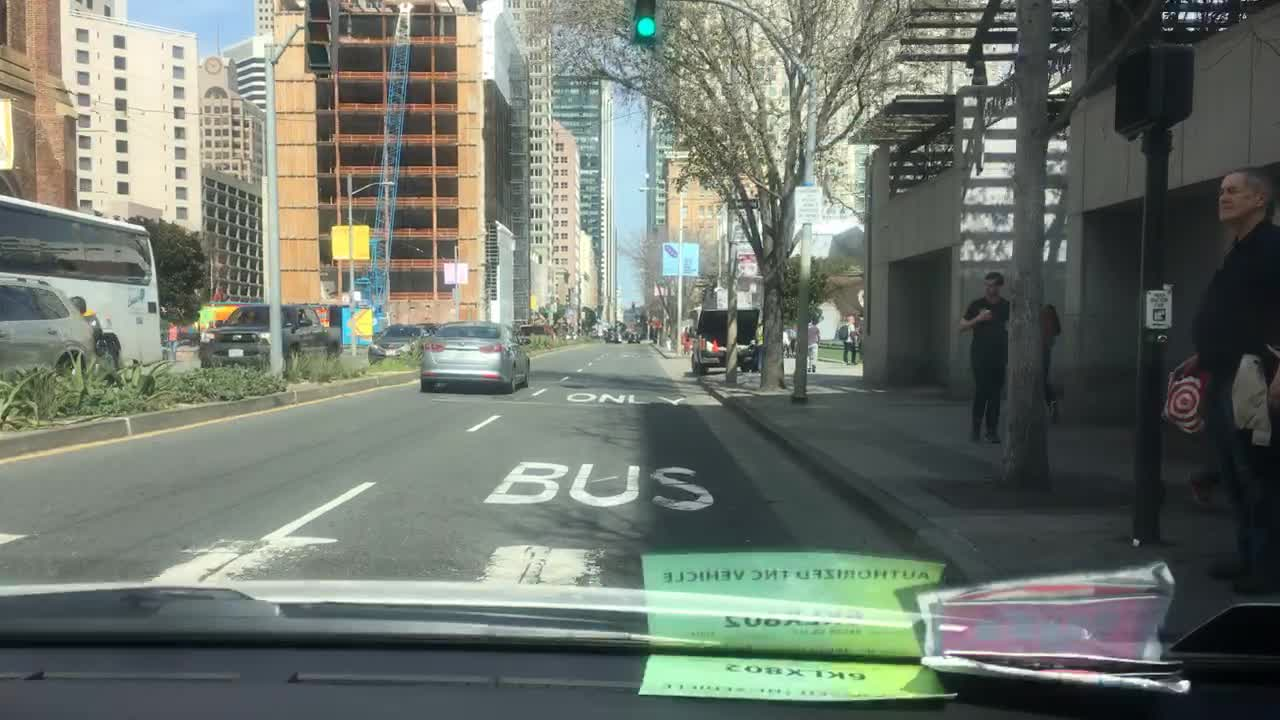bus: (0, 190, 158, 371)
car: (0, 274, 92, 373), (195, 304, 329, 370), (419, 320, 532, 391), (679, 304, 762, 377), (368, 322, 436, 361), (514, 320, 555, 346), (601, 332, 621, 345), (628, 330, 641, 347)
person: (1169, 166, 1278, 596), (962, 271, 1006, 443), (1035, 295, 1063, 432), (839, 309, 857, 364), (806, 311, 817, 372), (164, 317, 175, 364)
traffic light: (1114, 41, 1195, 138), (302, 0, 336, 75), (635, 0, 659, 48)
